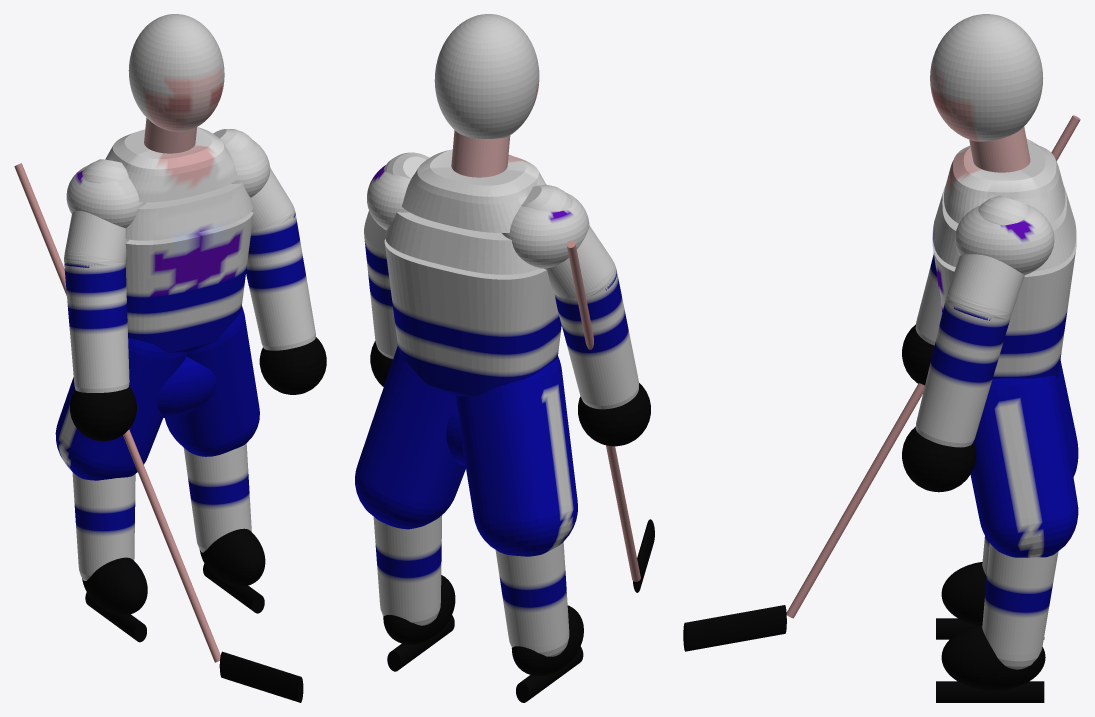
File: nhl95pc_player_mesh.glb
3 renders of one model, left to right at view 1: azimuth 30°, elevation 25°; view 2: azimuth 150°, elevation 25°; view 3: azimuth 270°, elevation 25°, orthographic. The views are drawn at different scales.
Visible parts, largest first — view 1: geometry_0; view 2: geometry_0; view 3: geometry_0.
Part boxes in pixels (x1,y1,x2,y2): geometry_0: (14,14,326,702); geometry_0: (355,14,654,702); geometry_0: (683,14,1080,702).
Size of the model in its own units: 0.7874 by 1.8 by 0.9924.
